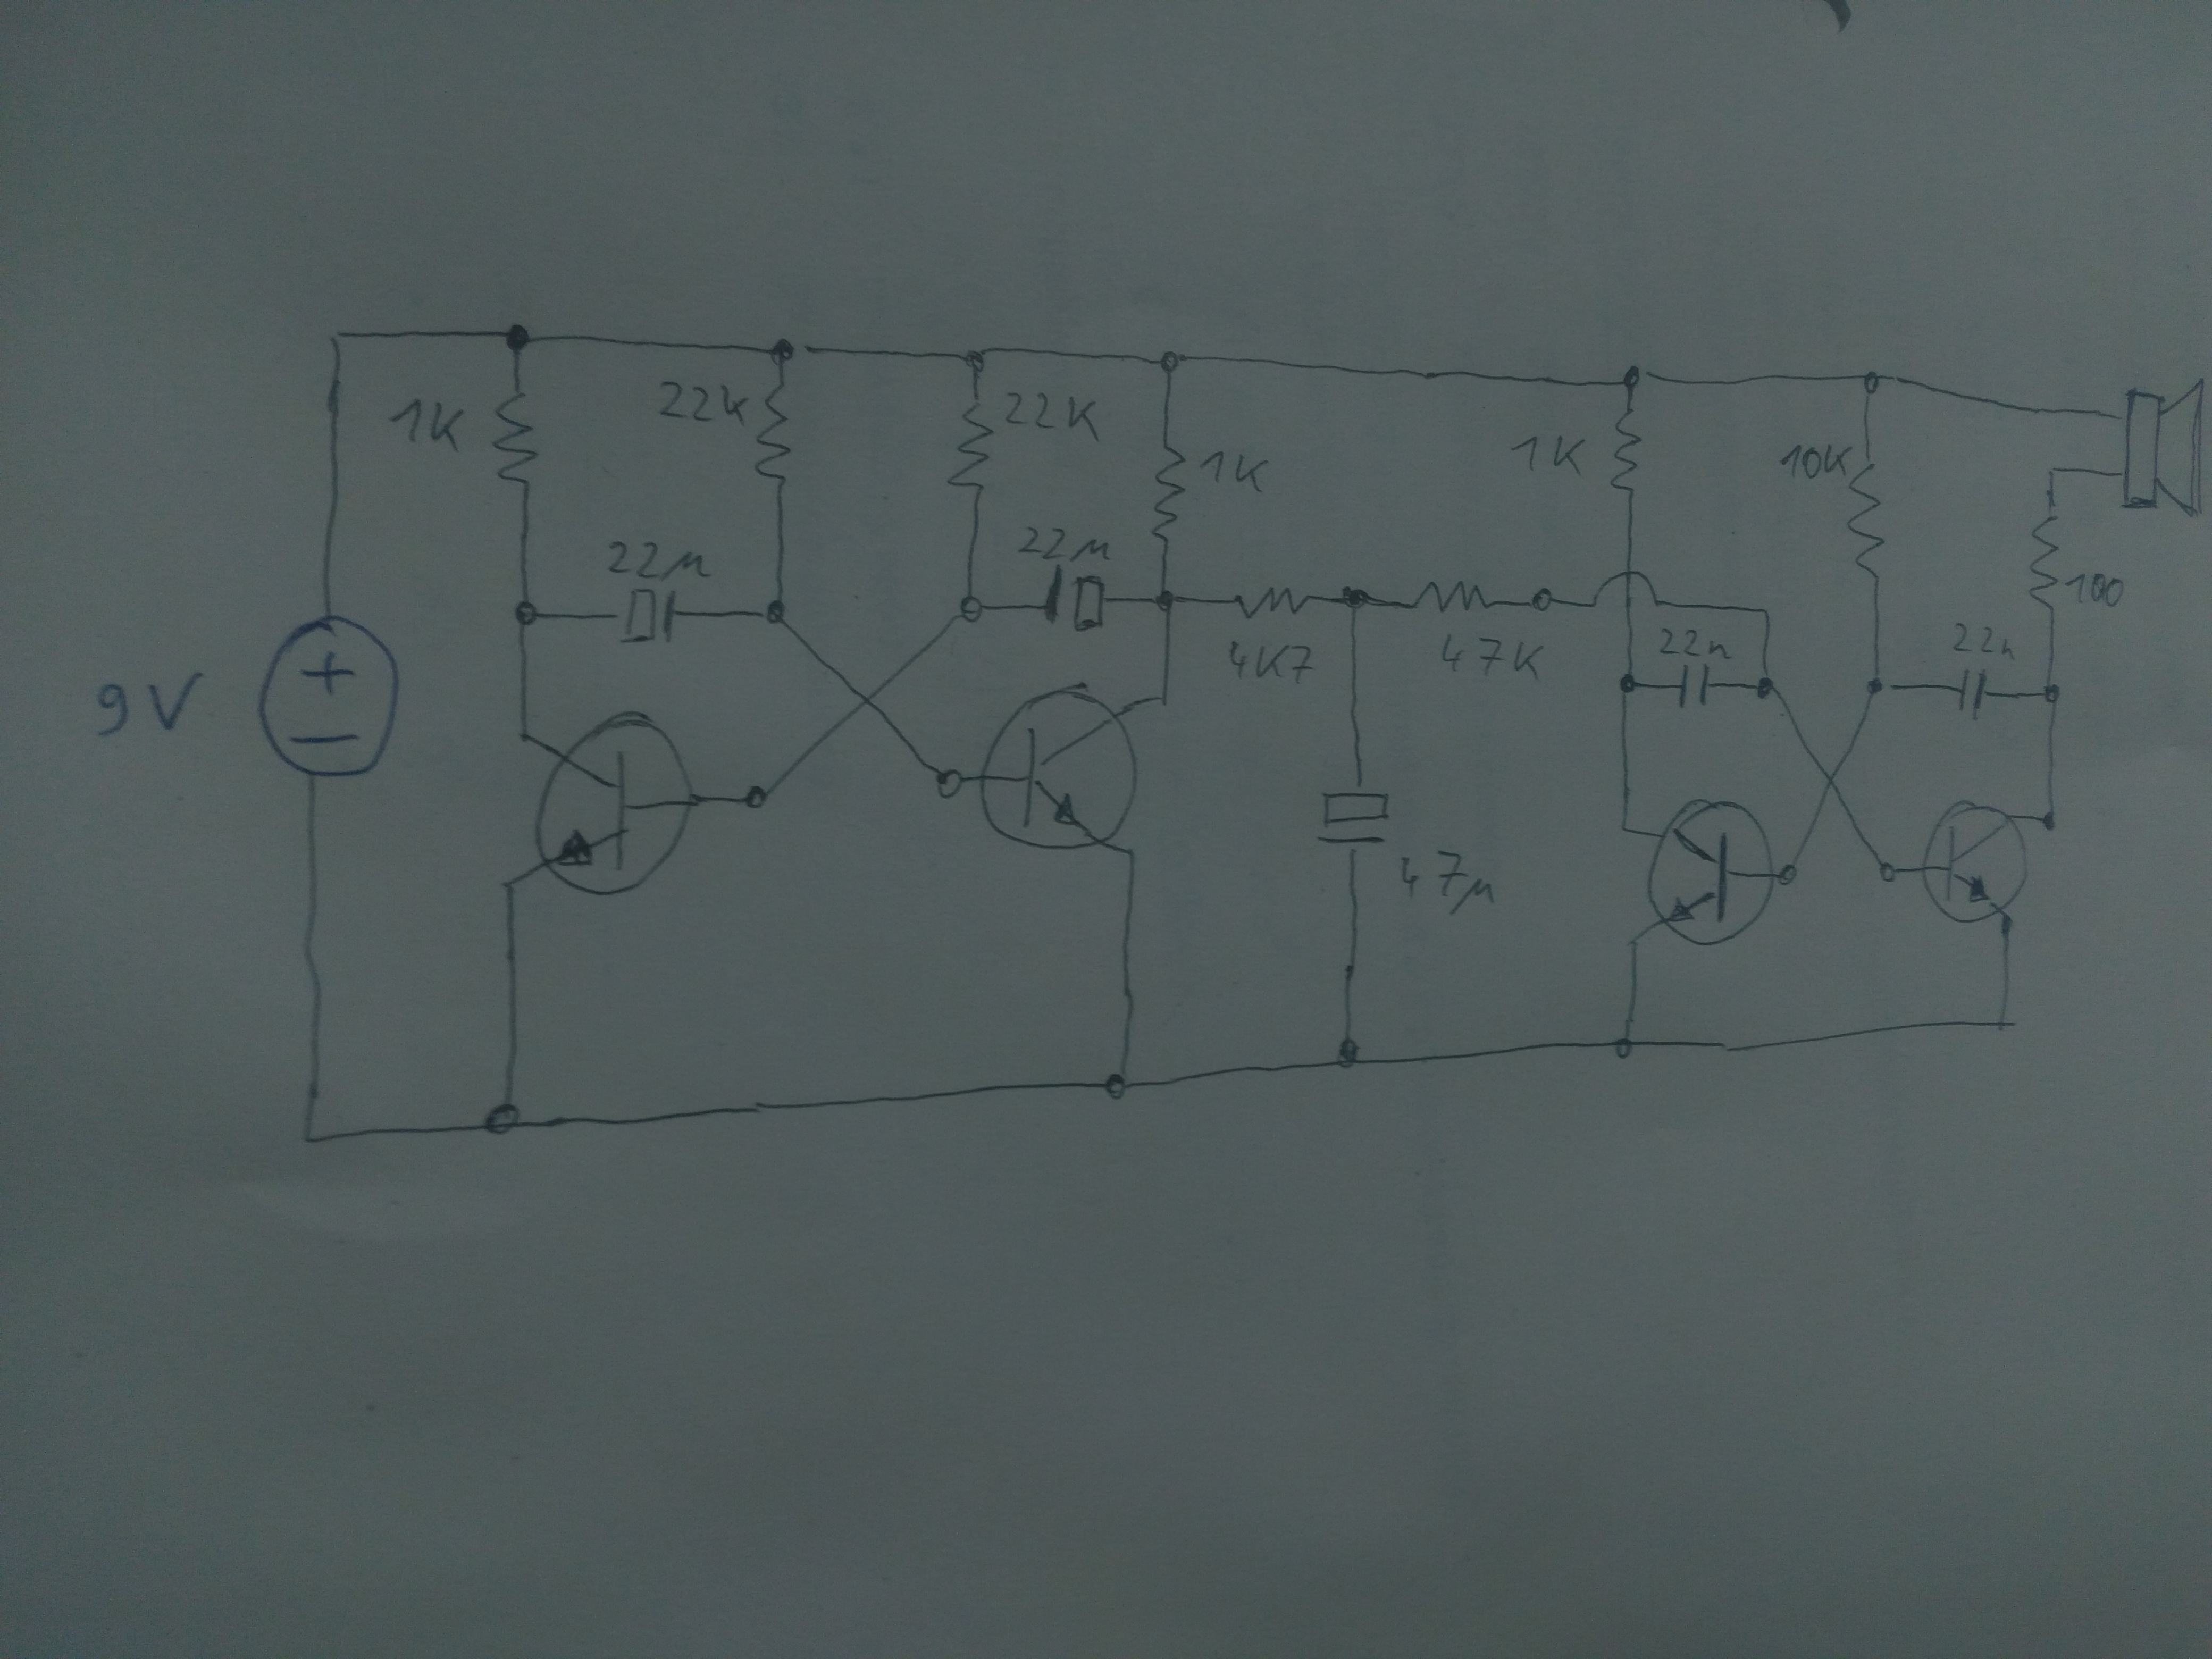capacitor.polarized: (1043, 561, 1108, 634), (1313, 789, 1392, 847), (620, 587, 683, 650)
capacitor.unpolarized: (1952, 667, 1991, 718), (1674, 659, 1710, 711)
crossover: (1583, 568, 1667, 615), (1810, 756, 1855, 807), (843, 676, 892, 721)
junction: (481, 1101, 523, 1141), (287, 1117, 329, 1154), (932, 765, 970, 802), (509, 594, 543, 631), (1770, 856, 1806, 890), (763, 333, 801, 366), (738, 779, 772, 817), (500, 322, 535, 357), (759, 598, 792, 633), (1099, 1070, 1132, 1105), (1331, 1039, 1364, 1073), (1858, 673, 1893, 706), (1872, 854, 1904, 890), (322, 324, 357, 355), (1616, 362, 1651, 394), (958, 591, 988, 627), (493, 870, 524, 903), (1609, 667, 1642, 699), (1855, 368, 1888, 399), (1750, 671, 1784, 702), (1986, 1009, 2017, 1042), (2036, 676, 2066, 711), (505, 723, 536, 755), (1339, 582, 1371, 613), (1155, 347, 1188, 376), (1618, 925, 1651, 955), (1526, 586, 1557, 615), (961, 345, 991, 375), (1151, 586, 1181, 615), (1611, 810, 1641, 840), (1608, 1033, 1637, 1061), (2036, 809, 2064, 838), (1148, 688, 1176, 716), (1115, 840, 1144, 866), (1747, 598, 1777, 622), (2040, 460, 2064, 483)
resistor: (942, 399, 998, 495), (1843, 460, 1886, 582), (491, 390, 540, 493), (751, 376, 796, 483), (2026, 509, 2066, 619), (1148, 441, 1188, 547), (1608, 403, 1648, 497), (1230, 584, 1313, 620), (1411, 579, 1498, 613)
speaker: (2121, 375, 2207, 521)
text: (91, 669, 207, 744), (1397, 845, 1498, 917), (1435, 631, 1545, 681), (998, 387, 1101, 436), (604, 537, 714, 582), (1012, 521, 1116, 568), (387, 396, 469, 453), (653, 376, 749, 423), (1223, 638, 1313, 685), (1508, 432, 1588, 479), (1198, 450, 1271, 495), (1780, 441, 1858, 483), (1653, 624, 1731, 666), (1949, 619, 2019, 662), (2064, 570, 2128, 613)
transistor: (531, 708, 704, 899), (972, 680, 1141, 854), (1642, 796, 1780, 951), (1916, 798, 2031, 931)
voltage.dc: (251, 610, 401, 782)
